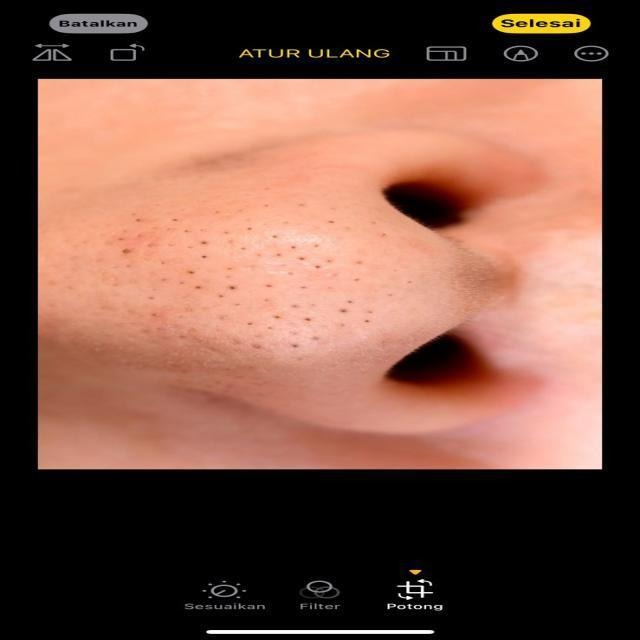blackhead: (129, 204, 383, 372)
